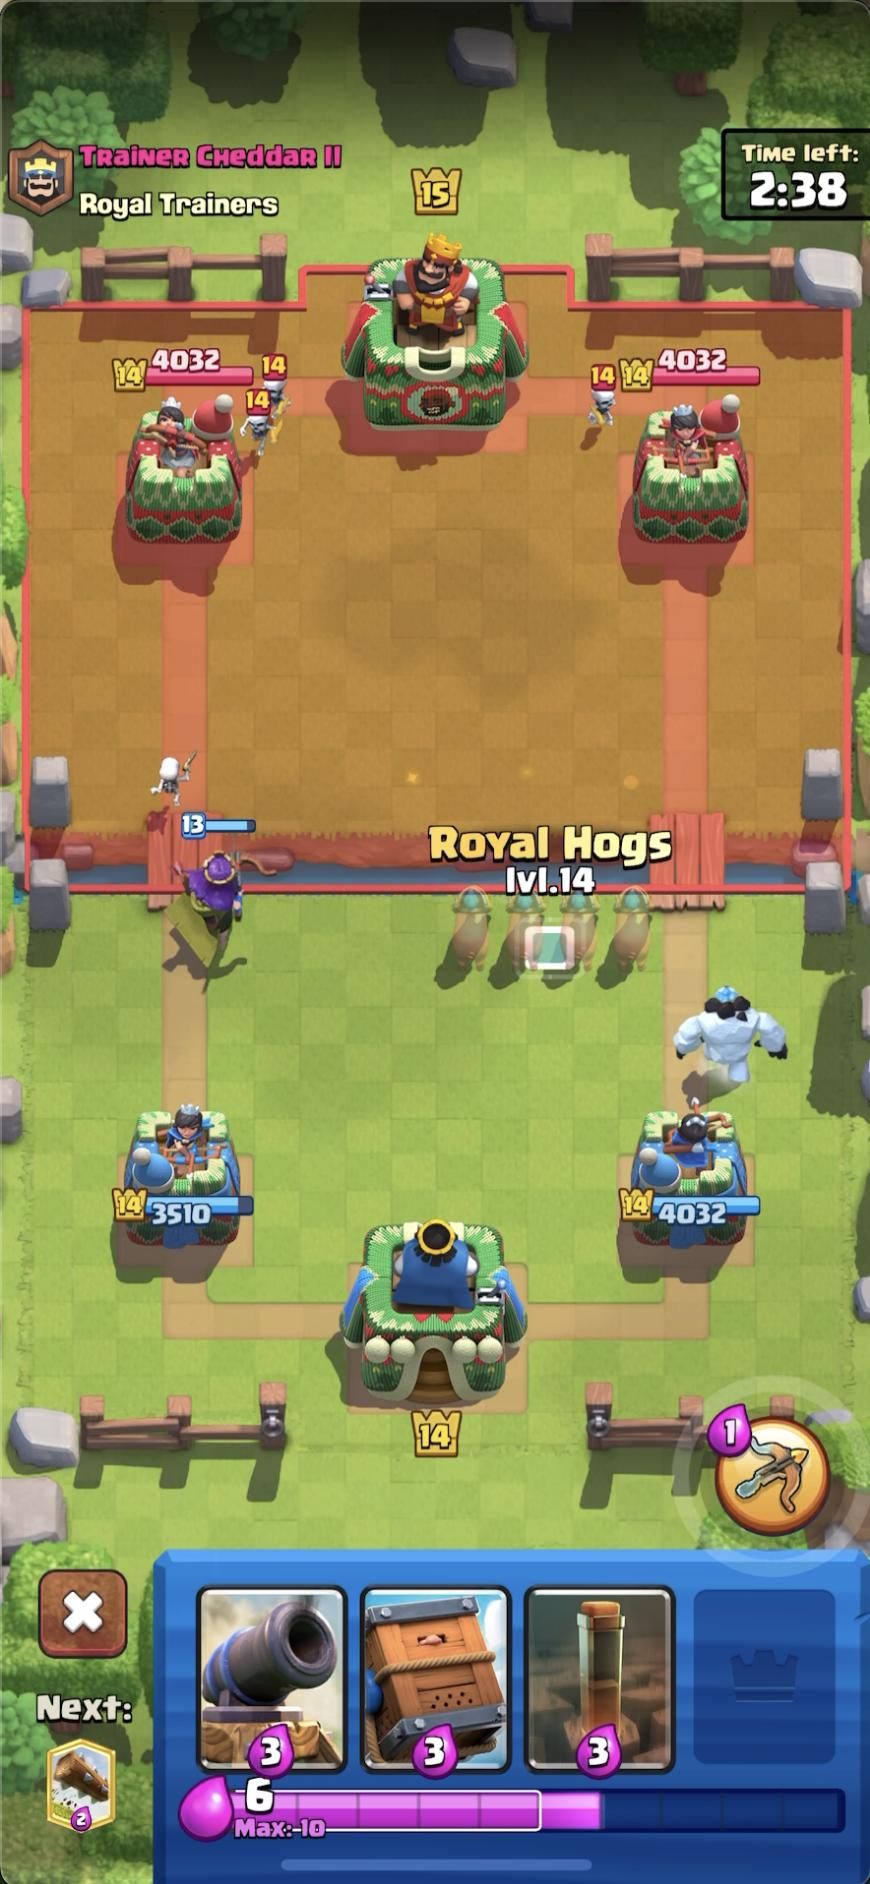elixir bar: (174, 1773, 357, 1848)
timer: (727, 133, 870, 216)
